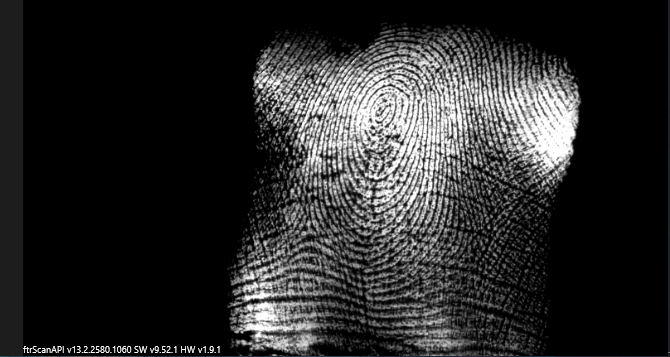deltas: (449, 226, 495, 279), (283, 212, 331, 259)
nucleo: (362, 85, 400, 129)
